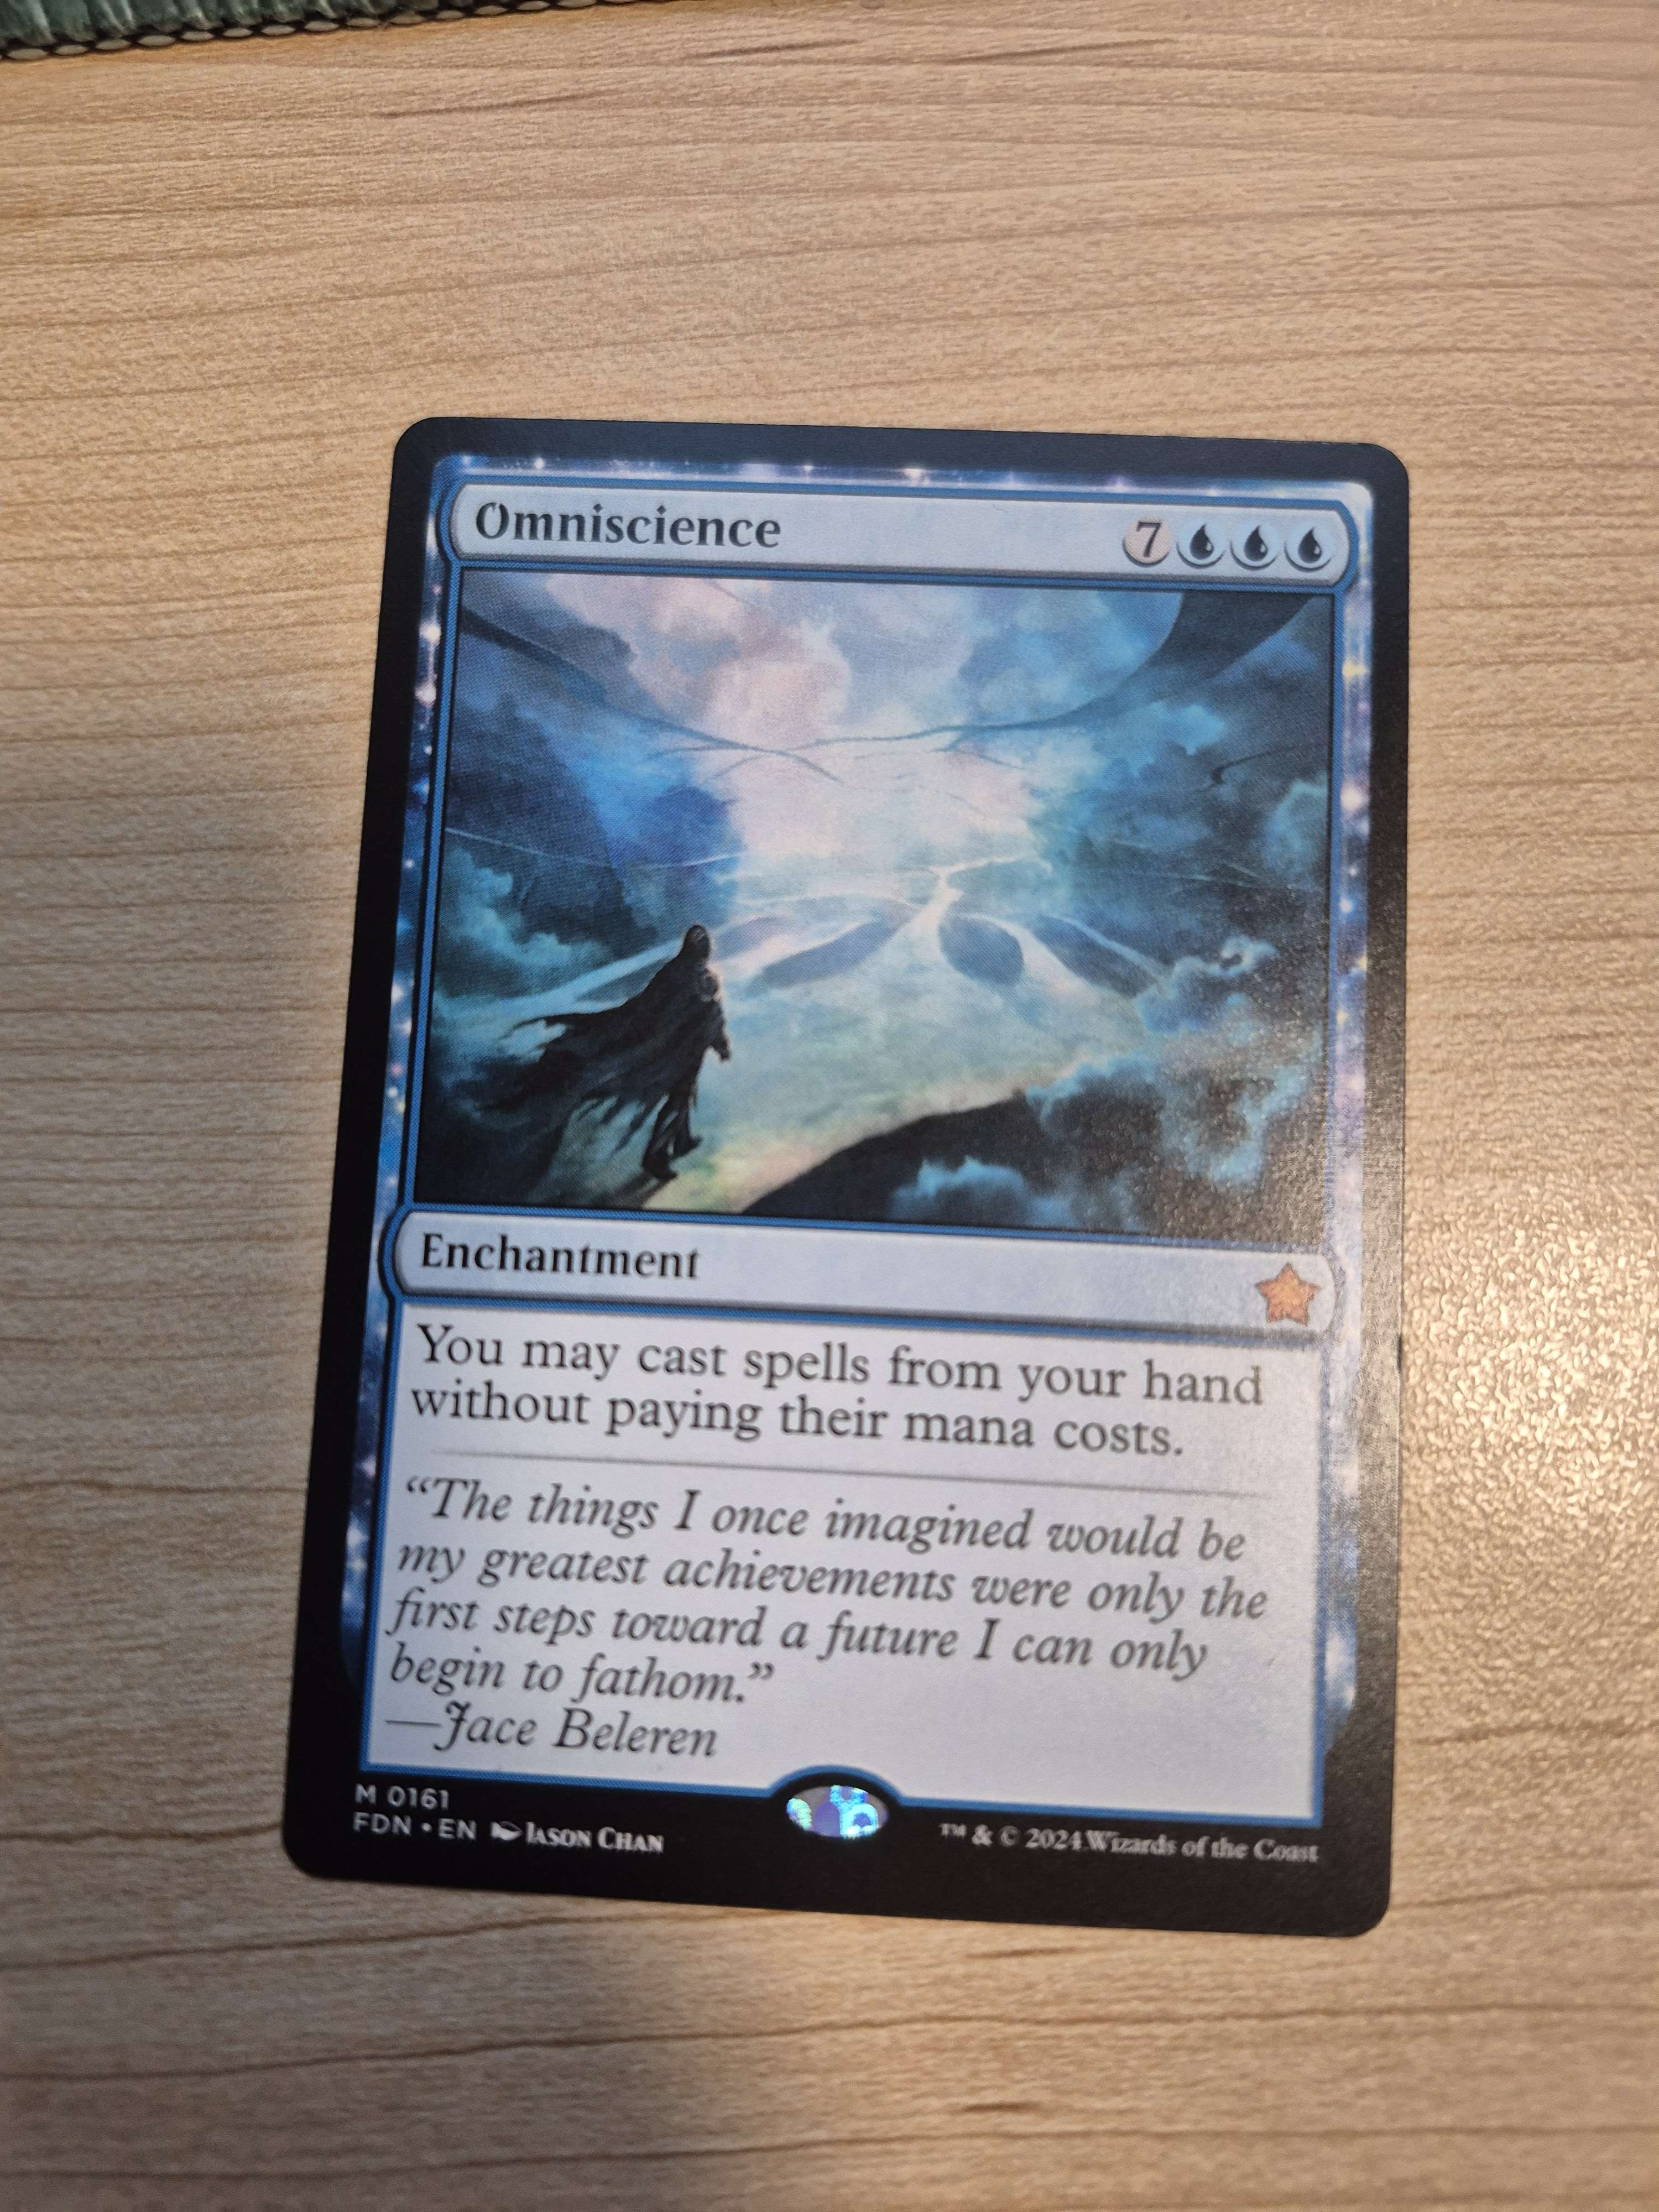mtg_card: (253, 350, 1399, 1935)
